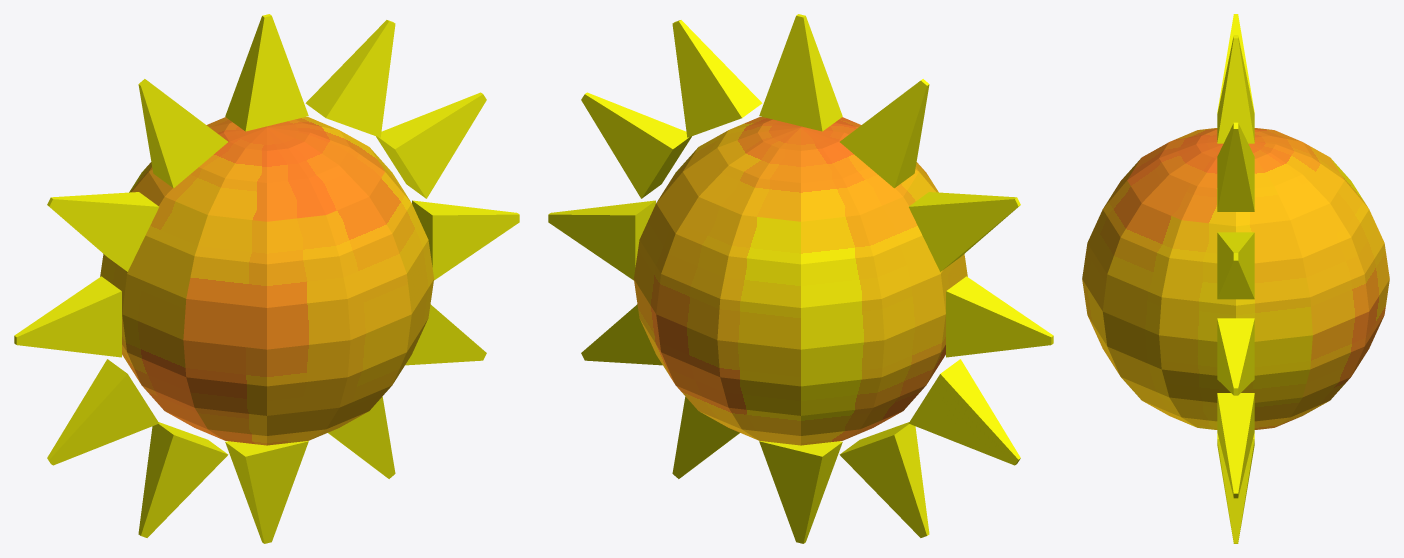
The picture shows the model from 3 angles, left to right: view 1: azimuth 30°, elevation 25°; view 2: azimuth 150°, elevation 25°; view 3: azimuth 270°, elevation 25°; orthographic projection. The views are drawn at different scales.
Visible parts, largest first — view 1: node-0, rayons; view 2: node-0, rayons; view 3: node-0, rayons.
Part boxes in pixels (left/top/right/bottom): node-0: left=100, top=117, right=433, bottom=445; rayons: left=14, top=14, right=519, bottom=543; node-0: left=634, top=117, right=967, bottom=445; rayons: left=548, top=14, right=1053, bottom=543; node-0: left=1082, top=128, right=1389, bottom=429; rayons: left=1217, top=14, right=1254, bottom=543.
Size of the model in its own units: 3.47 by 3.47 by 2.
2 materials, 2 textured.
